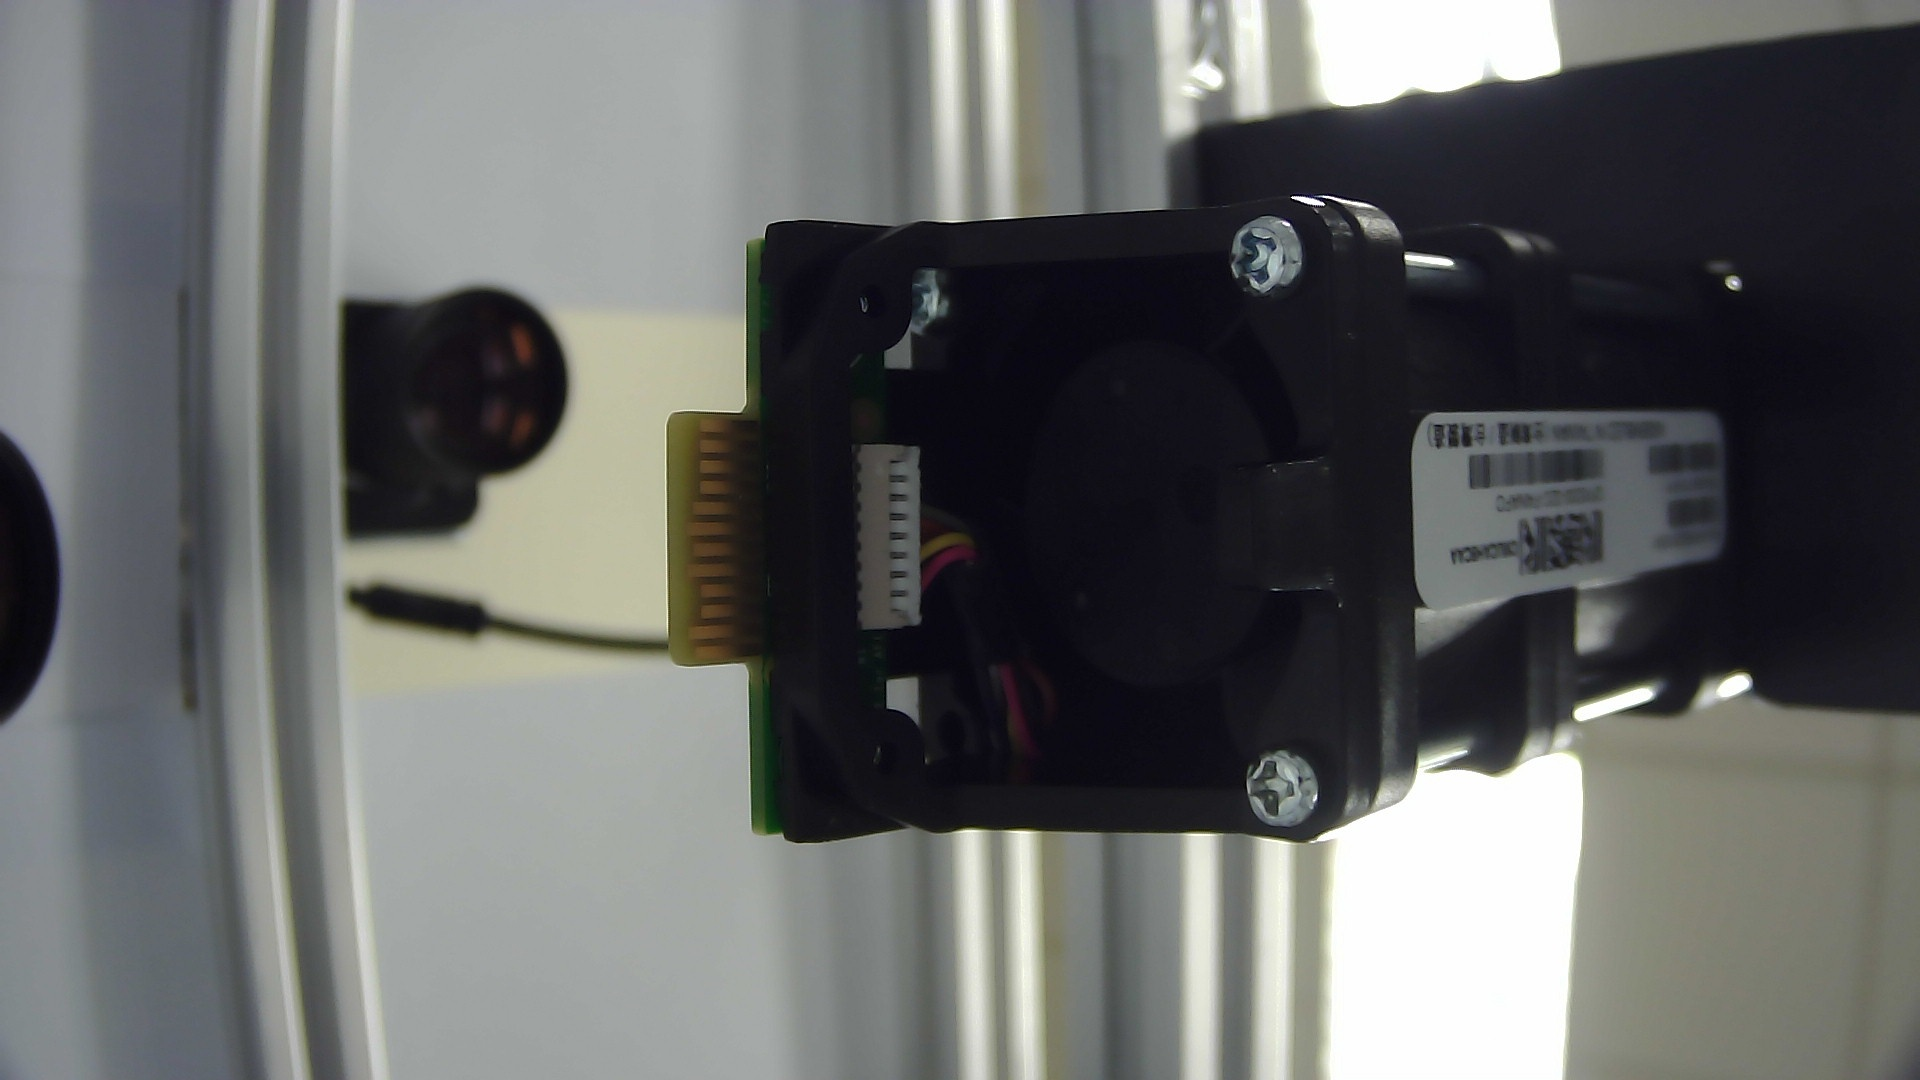4_0: (636, 123, 1836, 891)
